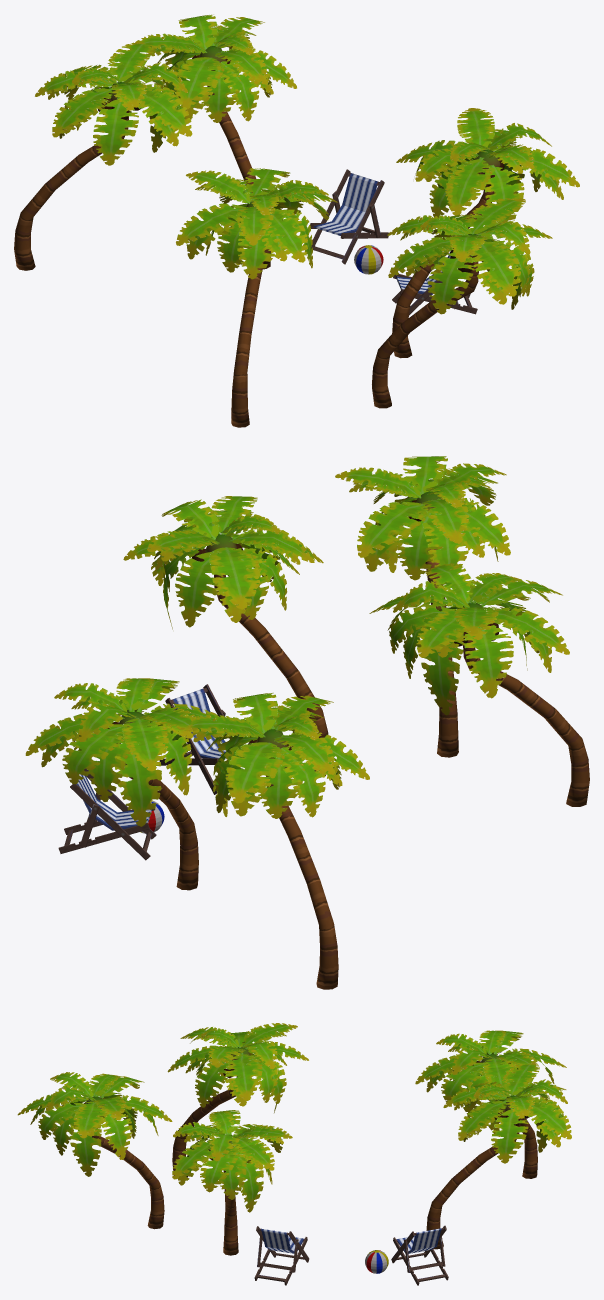
Rendered from escenario.obj.
3 renders of one model, top to bottom at view 1: azimuth 30°, elevation 25°; view 2: azimuth 150°, elevation 25°; view 3: azimuth 270°, elevation 25°, orthographic. The views are drawn at different scales.
Visible parts, largest first — view 1: palmtree.004, palmtree.001, palmtree.003, palmtree.002, palmtree, Chaise_longe, Chaise_longe.001, BeachBall; view 2: palmtree.004, palmtree.003, palmtree, palmtree.002, palmtree.001, Chaise_longe, Chaise_longe.001; view 3: palmtree.001, palmtree, palmtree.004, palmtree.002, palmtree.003, Chaise_longe, Chaise_longe.001, BeachBall.
Part boxes in pixels (x1=…): palmtree.004: x1=176, y1=168, x2=337, y2=427; palmtree.001: x1=372, y1=198, x2=552, y2=408; palmtree.003: x1=14, y1=42, x2=192, y2=270; palmtree.002: x1=392, y1=108, x2=579, y2=358; palmtree: x1=132, y1=14, x2=296, y2=269; Chaise_longe: x1=310, y1=169, x2=388, y2=264; Chaise_longe.001: x1=392, y1=252, x2=477, y2=315; BeachBall: x1=354, y1=245, x2=383, y2=274; palmtree.004: x1=369, y1=563, x2=589, y2=806; palmtree.003: x1=177, y1=692, x2=369, y2=989; palmtree: x1=25, y1=678, x2=223, y2=890; palmtree.002: x1=123, y1=496, x2=328, y2=777; palmtree.001: x1=335, y1=456, x2=510, y2=757; Chaise_longe: x1=58, y1=768, x2=156, y2=860; Chaise_longe.001: x1=159, y1=684, x2=226, y2=794; palmtree.001: x1=17, y1=1072, x2=172, y2=1229; palmtree: x1=426, y1=1062, x2=571, y2=1249; palmtree.004: x1=167, y1=1023, x2=308, y2=1177; palmtree.002: x1=172, y1=1110, x2=292, y2=1255; palmtree.003: x1=415, y1=1030, x2=566, y2=1178; Chaise_longe: x1=391, y1=1225, x2=448, y2=1285; Chaise_longe.001: x1=254, y1=1226, x2=309, y2=1285; BeachBall: x1=365, y1=1250, x2=388, y2=1273.
Size of what is drawn, in the model's own units: 46.37 by 22.76 by 73.05.
Materials: 16 (12 with a texture image).
